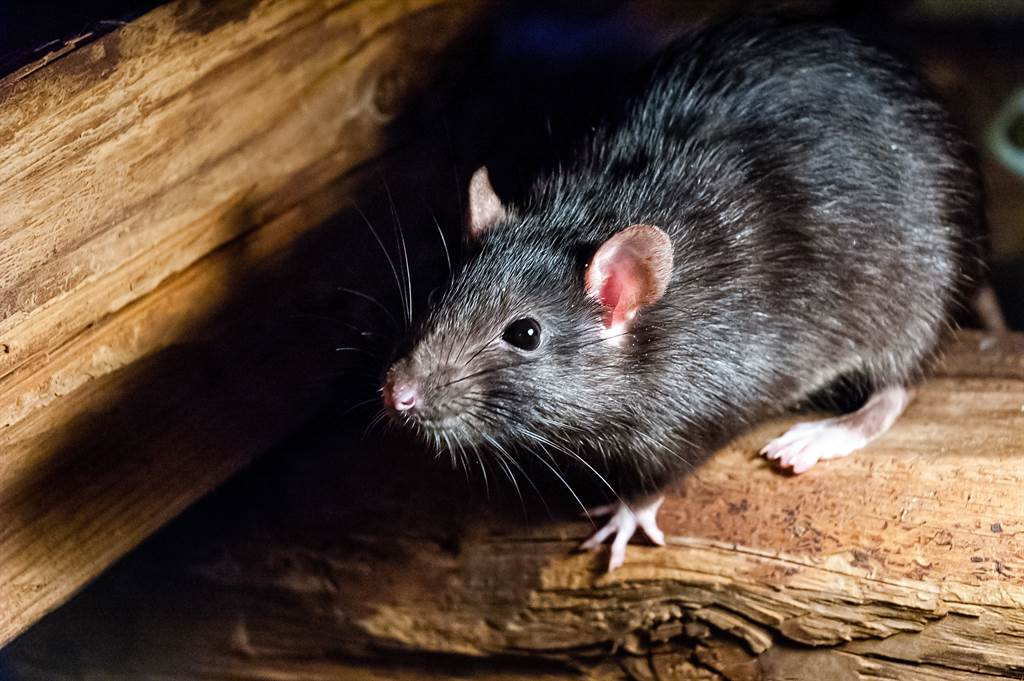mouse: (299, 17, 961, 576)
